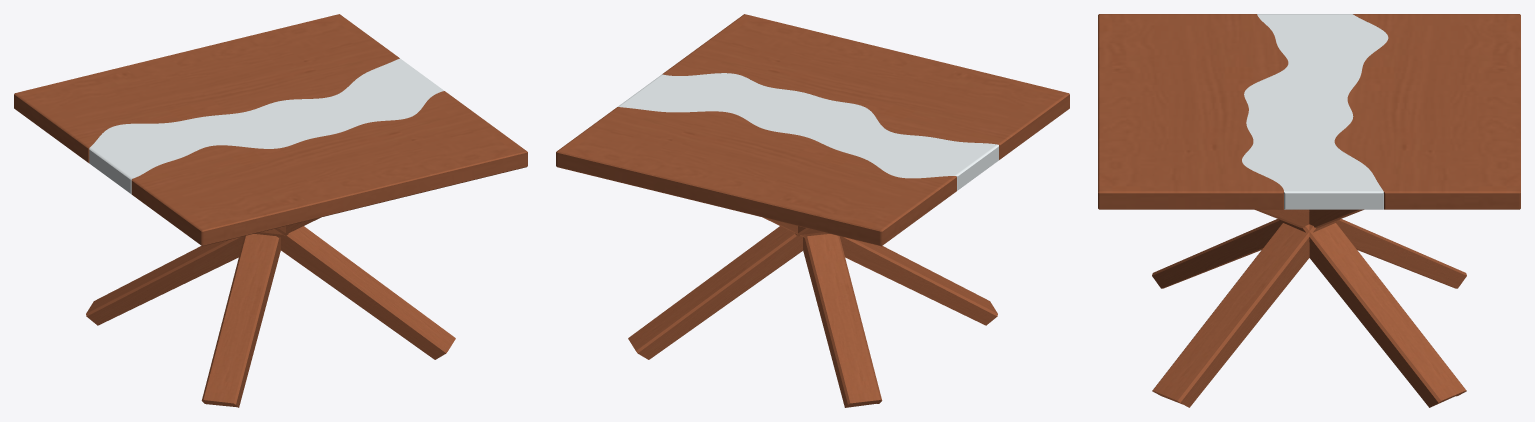
File: square-cherry-epoxy-clear.glb
3 renders of one model, left to right at view 1: azimuth 30°, elevation 25°; view 2: azimuth 150°, elevation 25°; view 3: azimuth 270°, elevation 25°, orthographic. The views are drawn at different scales.
Visible parts, largest first — view 1: Wood_Square_EpoxyFar, Wood_Square_EpoxyNear, Base_Square, Resin_Square; view 2: Wood_Square_EpoxyNear, Wood_Square_EpoxyFar, Base_Square, Resin_Square; view 3: Wood_Square_EpoxyFar, Wood_Square_EpoxyNear, Base_Square, Resin_Square.
Part boxes in pixels (box(x1,y1,x2,y2)): Wood_Square_EpoxyFar: box(131, 91, 527, 246); Wood_Square_EpoxyNear: box(14, 14, 399, 162); Base_Square: box(86, 217, 455, 407); Resin_Square: box(89, 58, 443, 194); Wood_Square_EpoxyNear: box(556, 107, 956, 246); Wood_Square_EpoxyFar: box(662, 14, 1069, 159); Base_Square: box(628, 217, 997, 407); Resin_Square: box(618, 73, 998, 190); Wood_Square_EpoxyFar: box(1098, 14, 1288, 209); Wood_Square_EpoxyNear: box(1334, 14, 1520, 209); Base_Square: box(1152, 209, 1466, 407); Resin_Square: box(1242, 14, 1388, 209).
Size of the model in its own units: 1.22 by 0.762 by 1.22.
2 materials, 1 textured.
